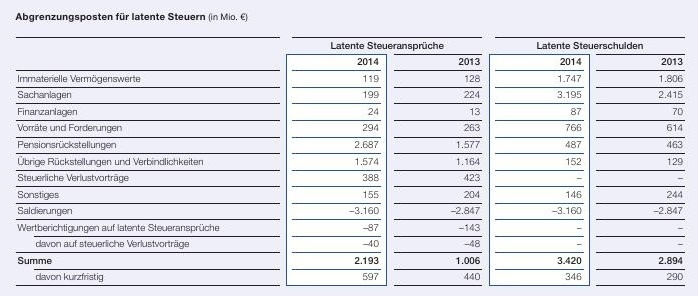table: (0, 0, 698, 296)
